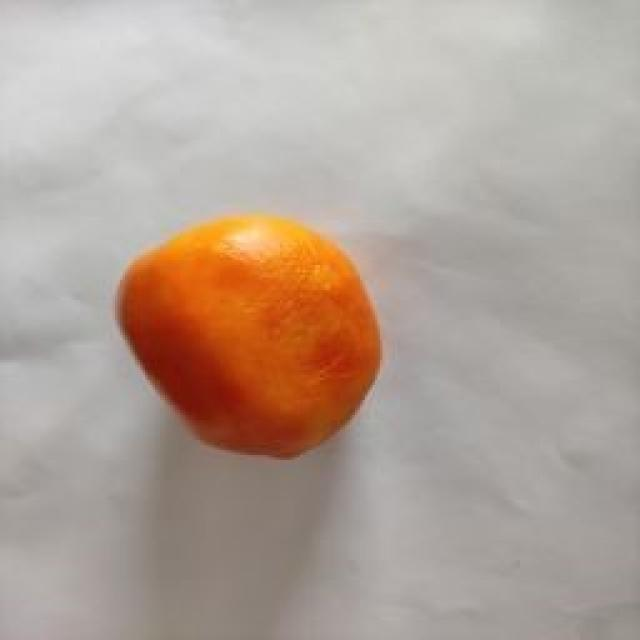Ripe: (113, 210, 390, 460)
